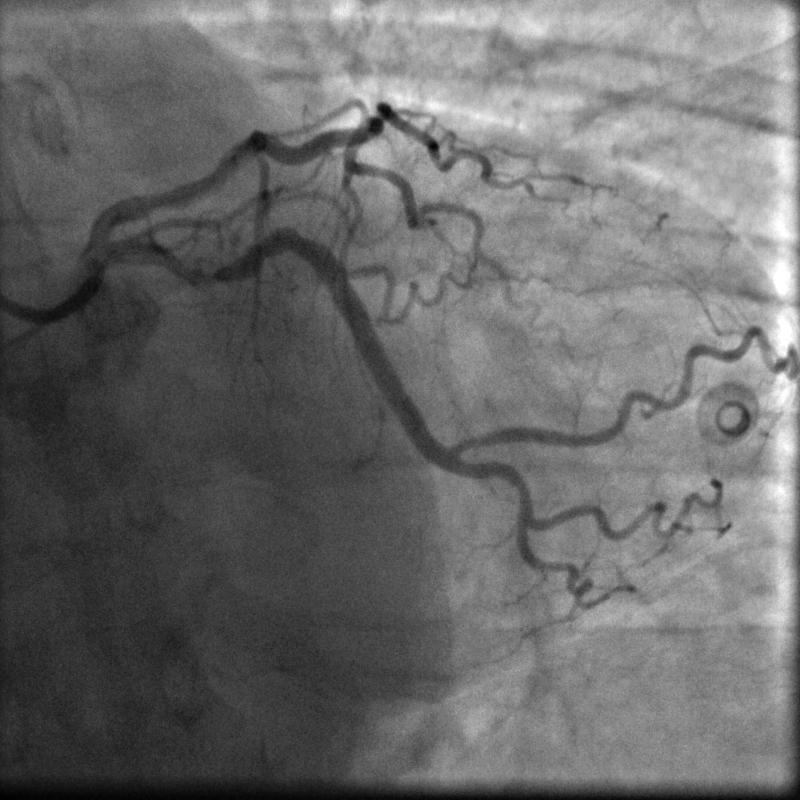Stenosis: (178, 255, 232, 287)
